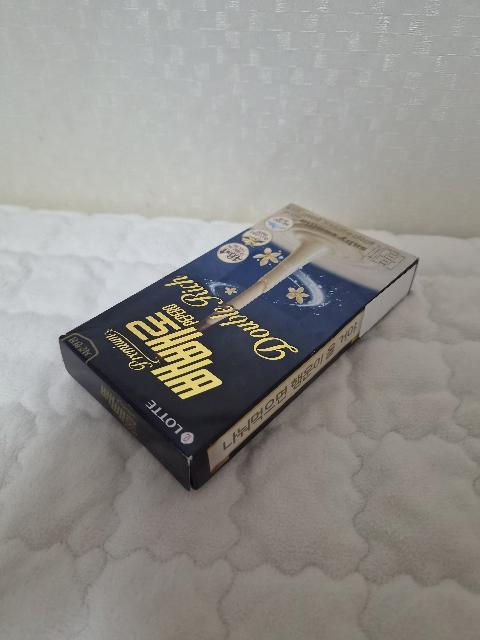pepero: (59, 203, 419, 492)
